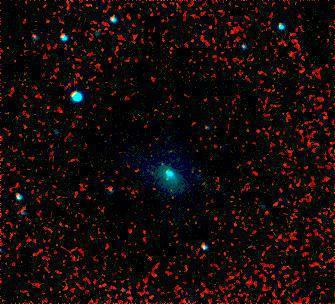star: (149, 148, 179, 178)
